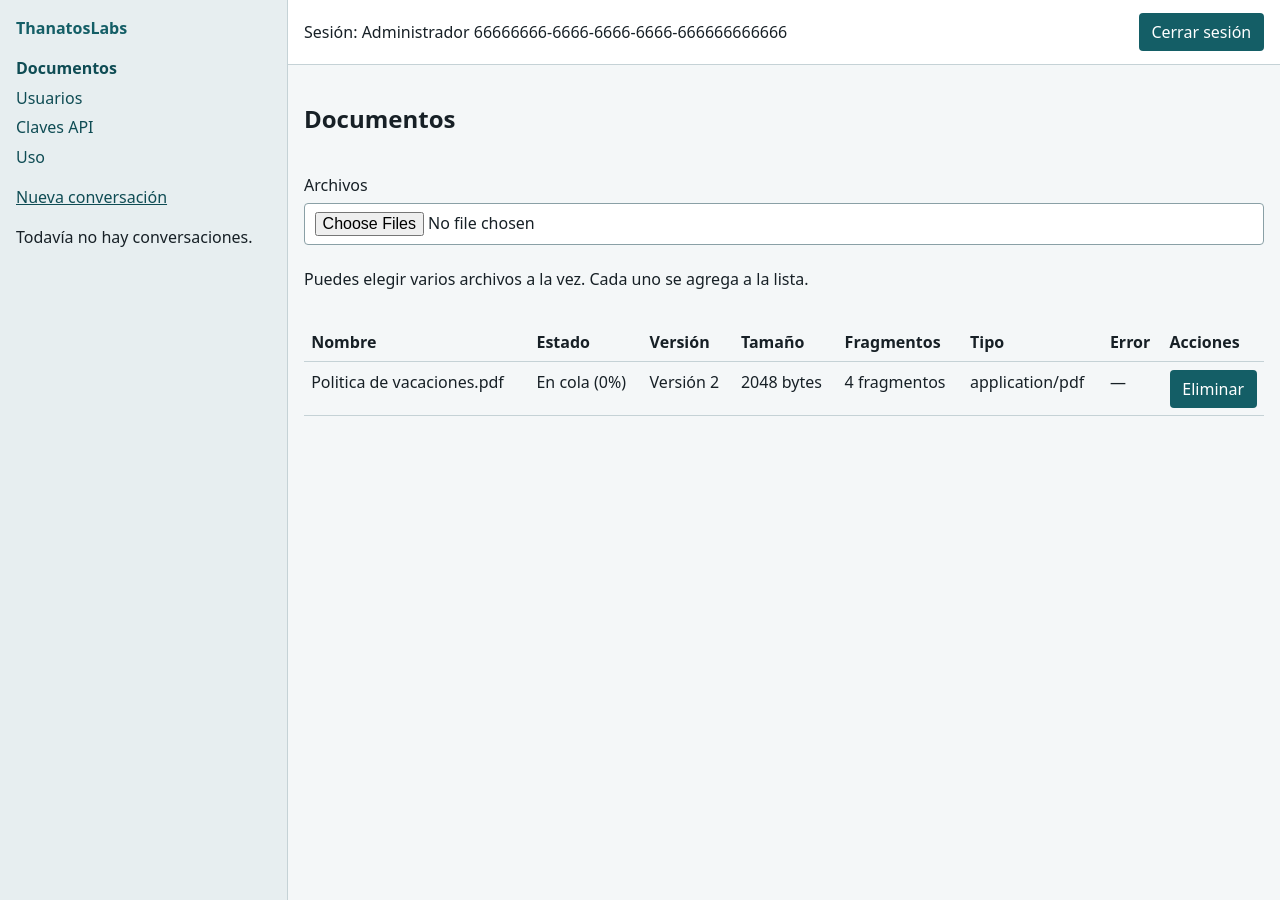
Test: deja de consultar al salir de la página
The width and height of the screenshot is (1280, 900).
Expected: the text "En cola (0%)" is shown, [529,362,642,416]
Click the link "Nueva conversación" at [92, 197], box [16,186,167,208]
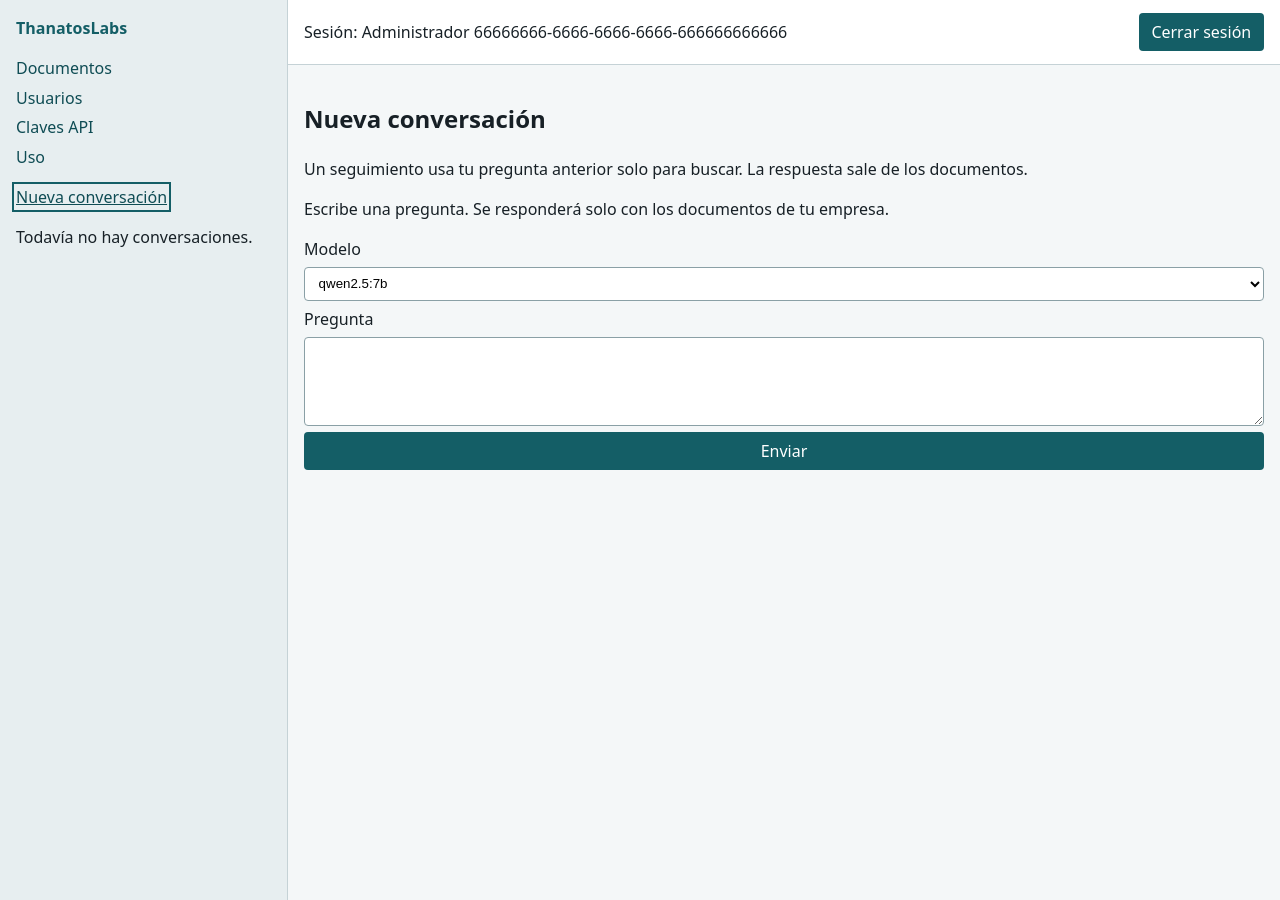
Expected: the heading "Nueva conversación" is shown, [304,102,546,135]
